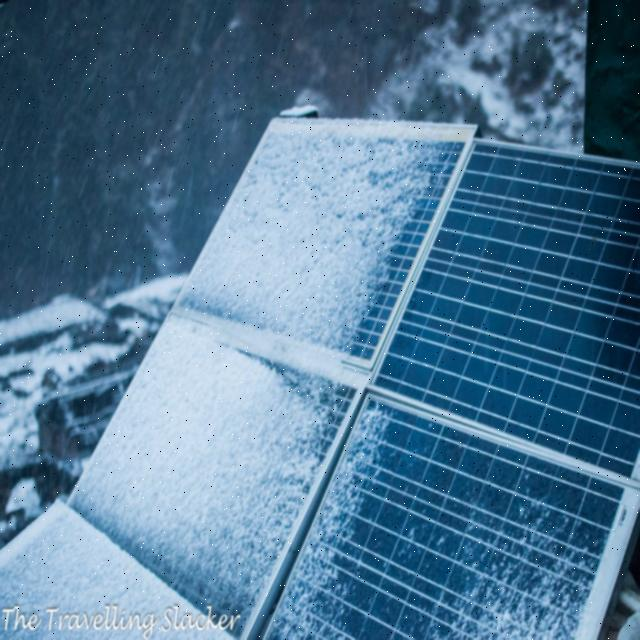snow covered: (77, 124, 637, 639)
